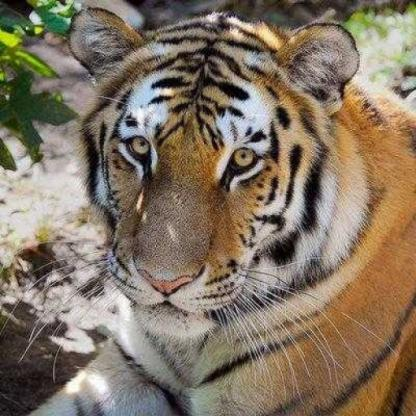Tiger: (21, 0, 416, 413)
